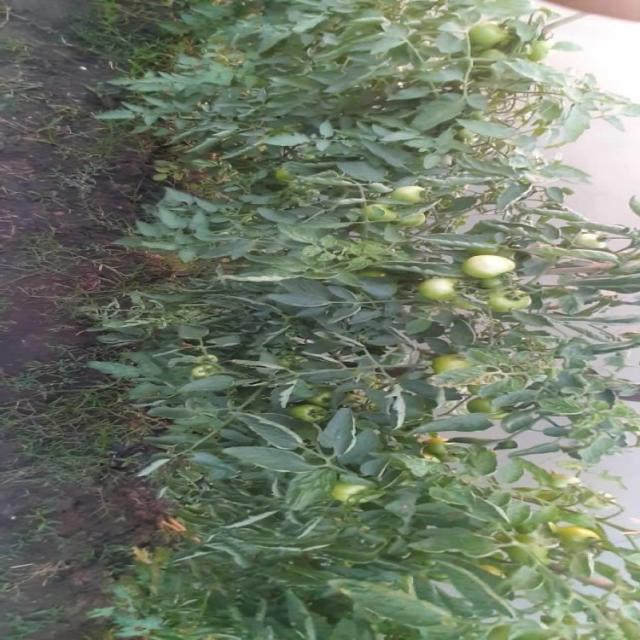tomato: (554, 508, 607, 564), (467, 247, 527, 291), (486, 280, 537, 319), (332, 476, 368, 514), (297, 398, 332, 435), (440, 340, 471, 380), (414, 273, 450, 306), (465, 19, 516, 40), (395, 190, 429, 213)
